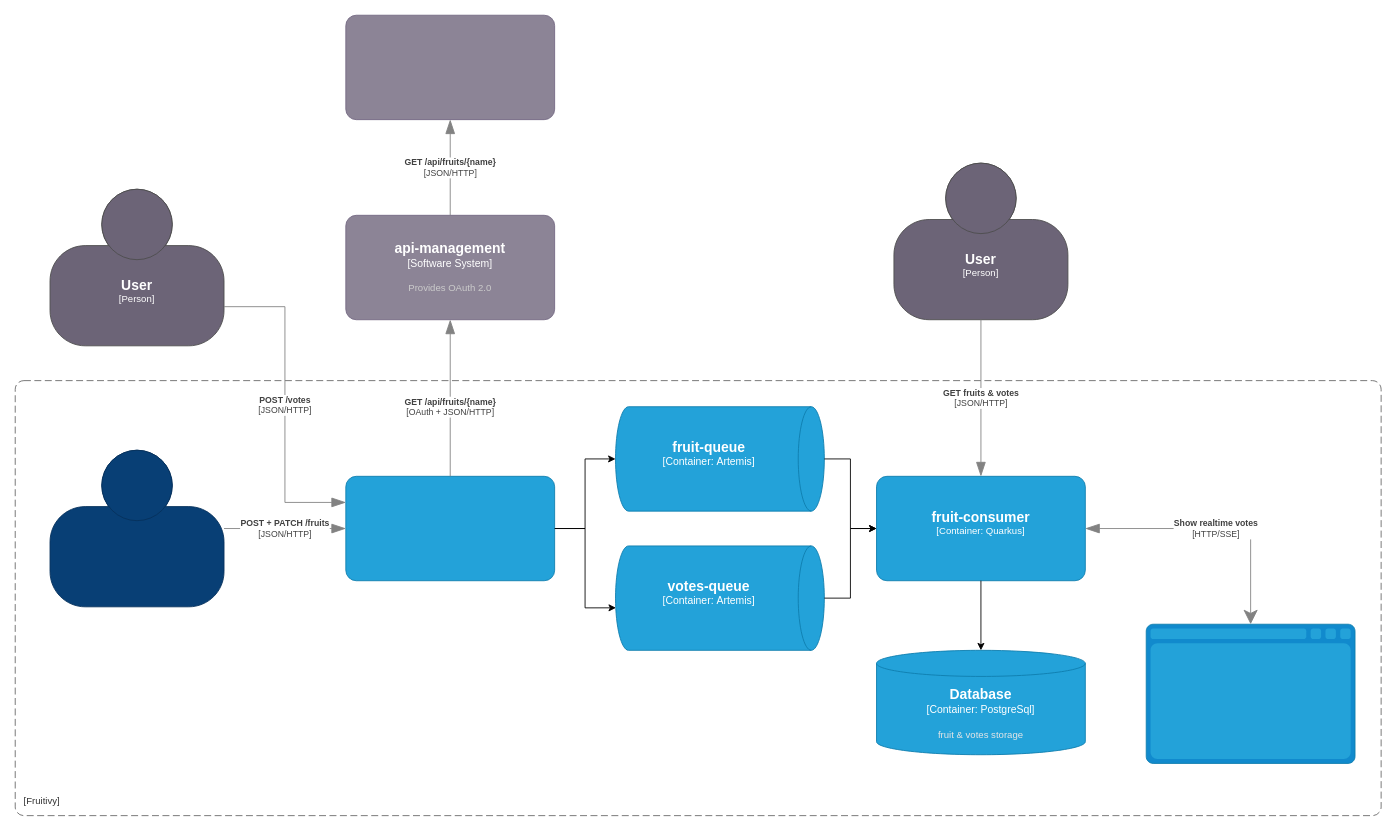
Some shapes in this 1396 by 831 pixel diagram are drawn without their labels. Here are the shapes that lost their labels. From the top down, the centre of each, then its label:
pixel 450 67: www.fruityvice.com/api/fruit [Software System]
pixel 136 528: Admin [Person]
pixel 450 528: fruit-producer [Container: Quarkus]
pixel 1250 693: Votes Dashboard [Container: AlpineJS, HTML]
